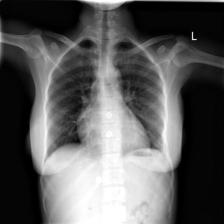normal: (43, 34, 170, 167)
